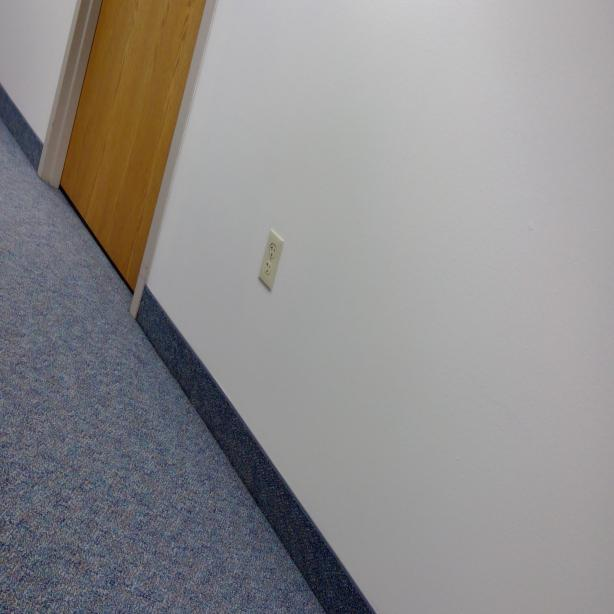typeb: (268, 241, 277, 259), (264, 262, 272, 277)
